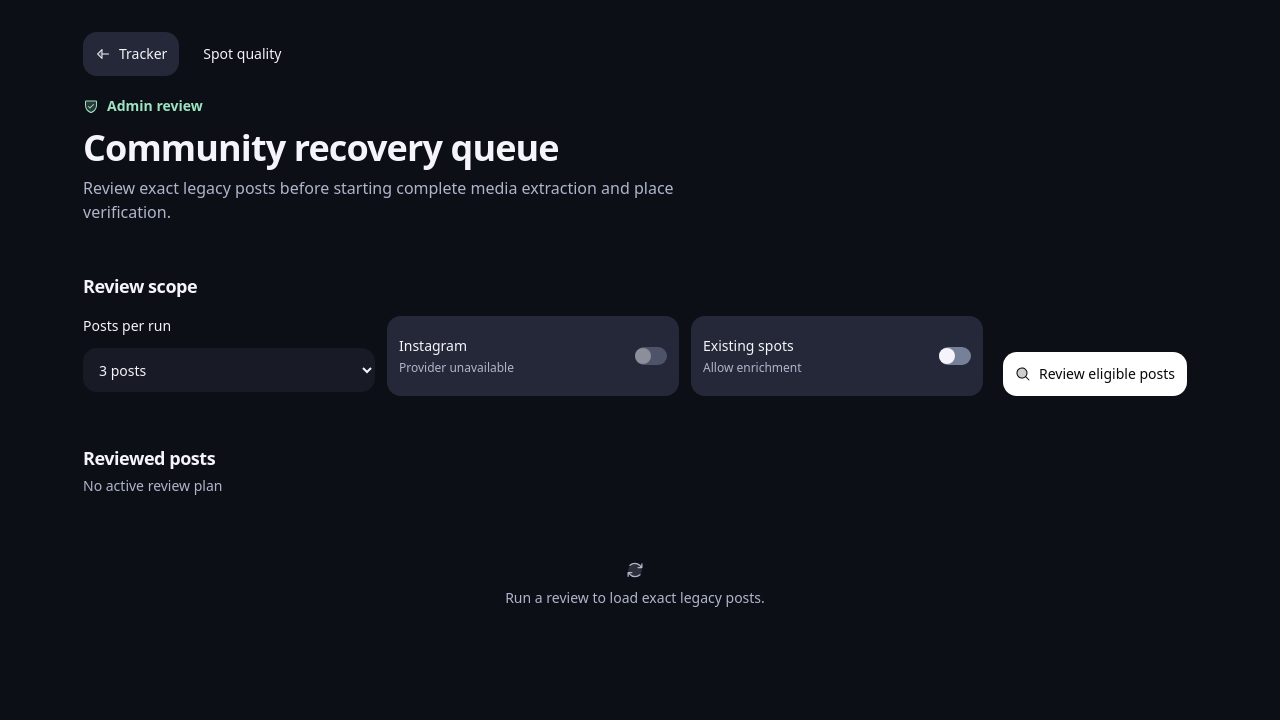
Test: SocialSubmissionRecovery › requires confirmation, sends an idempotency key, and announces worker completion
The width and height of the screenshot is (1280, 720).
Click the button "Review eligible posts": (1095, 374) [1003, 352, 1187, 396]
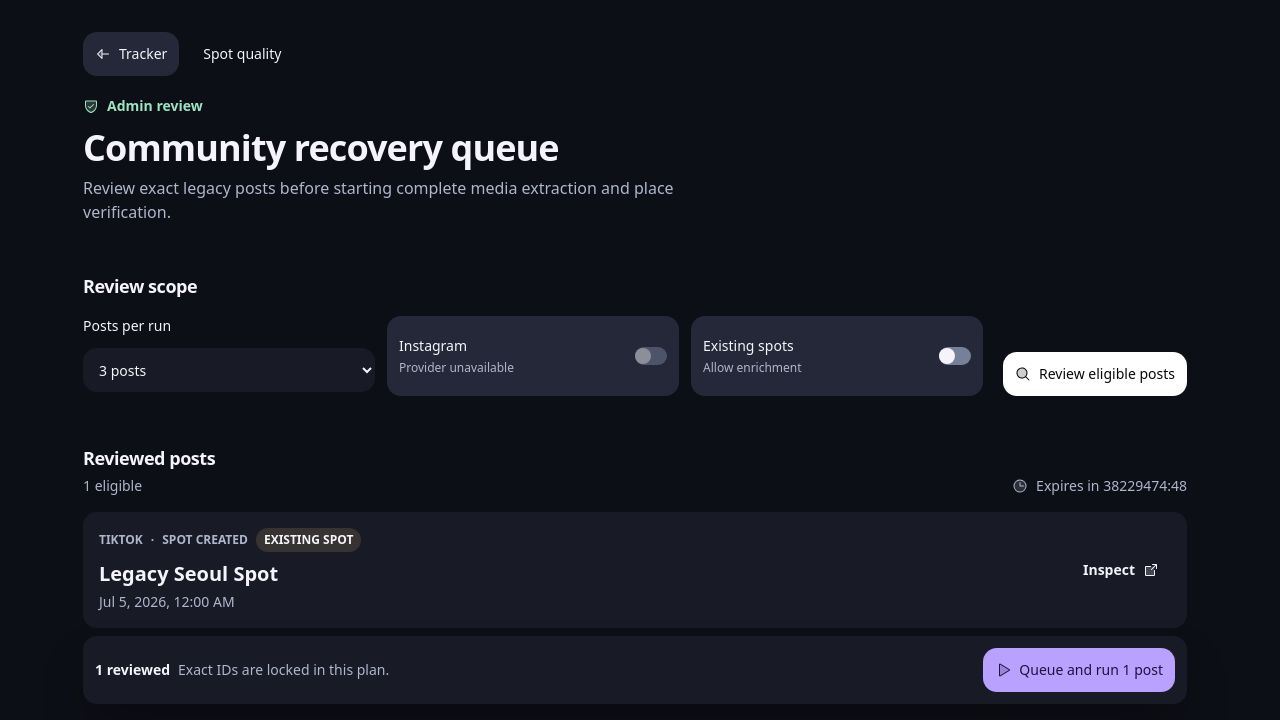
Click the button "Queue and run 1 post": (1079, 670) [983, 648, 1175, 692]
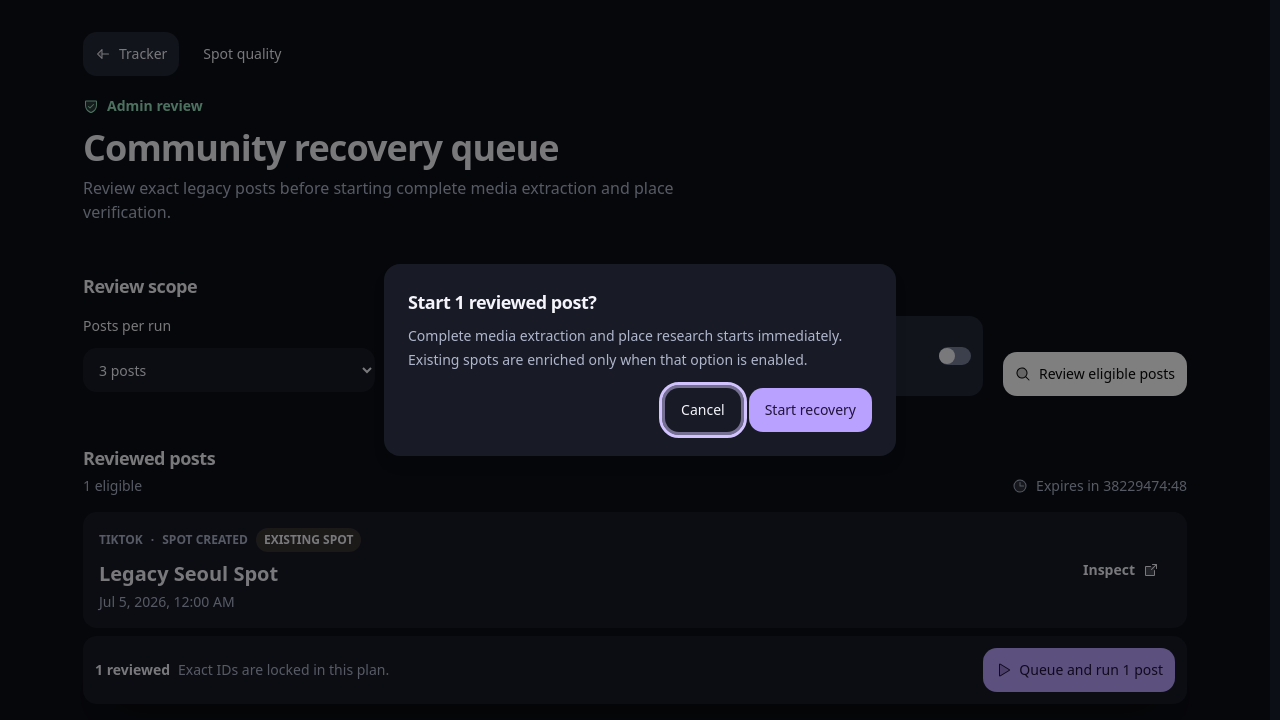
Expected: the heading "Start 1 reviewed post?" is shown, [408, 290, 596, 314]
Click the button "Start recovery": (810, 410) [749, 388, 872, 432]
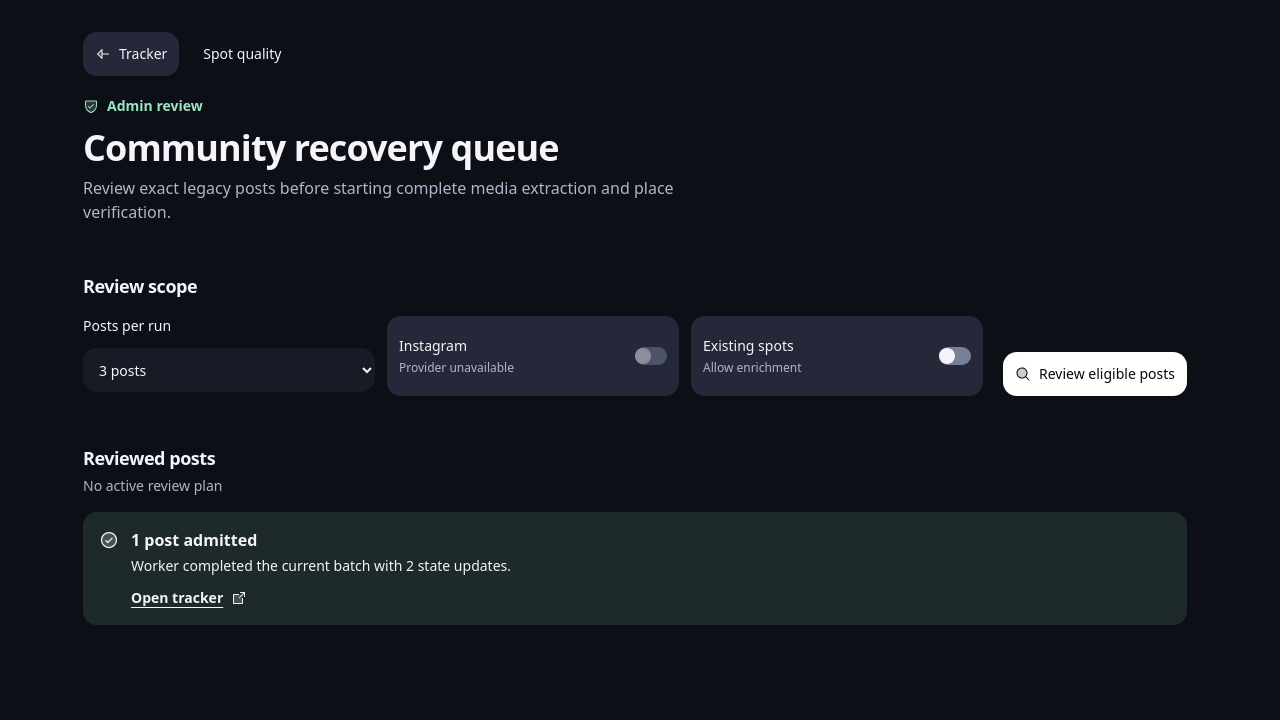
Expected: the message shows "1 post admitted", [83, 512, 1187, 625]
Expected: the text "Worker completed the current batch with 2 state updates." is shown, [131, 556, 511, 576]
